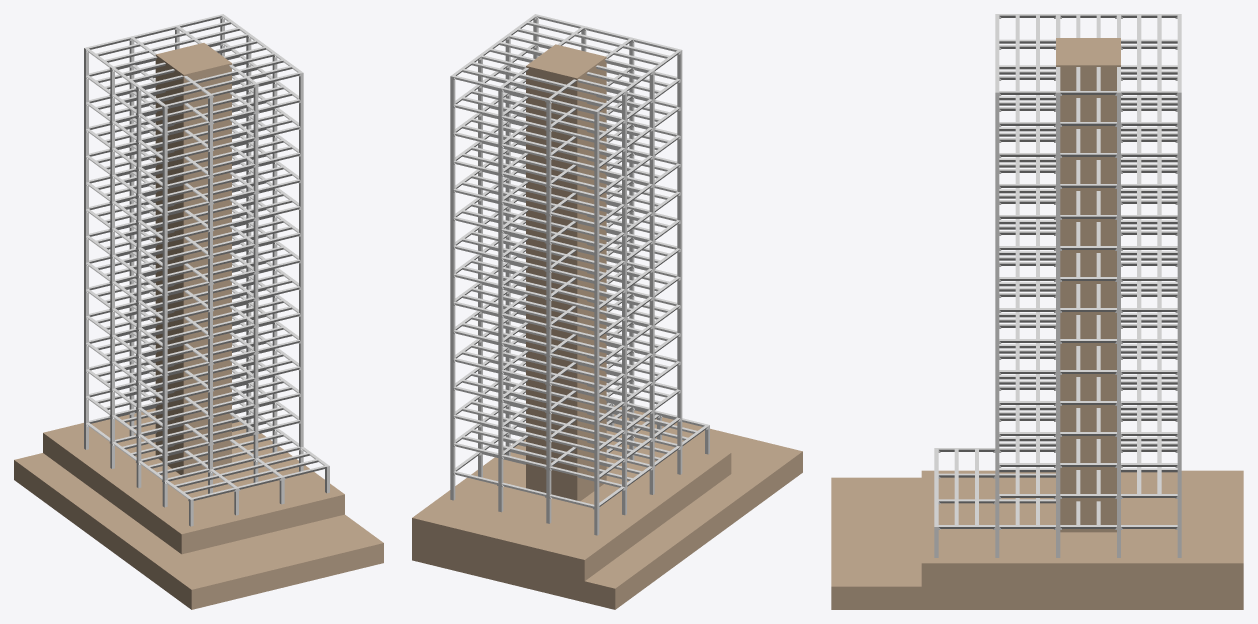
The picture shows the model from 3 angles, left to right: view 1: azimuth 30°, elevation 25°; view 2: azimuth 150°, elevation 25°; view 3: azimuth 270°, elevation 25°; orthographic projection. The views are drawn at different scales.
Visible parts, largest first — view 1: Rhinoceros Binary STL ( Apr 10 2024 ) (×15), object 34, object 1, object 33; view 2: Rhinoceros Binary STL ( Apr 10 2024 ) (×15), object 1, object 33, object 34; view 3: Rhinoceros Binary STL ( Apr 10 2024 ) (×15), object 1, object 33, object 34.
Boxes of the visible parts, x1,y1,x2,y2 form: Rhinoceros Binary STL ( Apr 10 2024 ) (×15): [84, 14, 329, 526]; object 34: [14, 453, 383, 609]; object 1: [43, 408, 344, 554]; object 33: [155, 43, 231, 474]; Rhinoceros Binary STL ( Apr 10 2024 ) (×15): [450, 14, 709, 535]; object 1: [412, 424, 731, 581]; object 33: [526, 44, 606, 501]; object 34: [412, 405, 802, 609]; Rhinoceros Binary STL ( Apr 10 2024 ) (×15): [934, 14, 1181, 557]; object 1: [921, 470, 1243, 586]; object 33: [1056, 38, 1120, 532]; object 34: [831, 477, 1243, 609].
Size of the model in its own units: 0.254 by 0.5588 by 0.4064.
